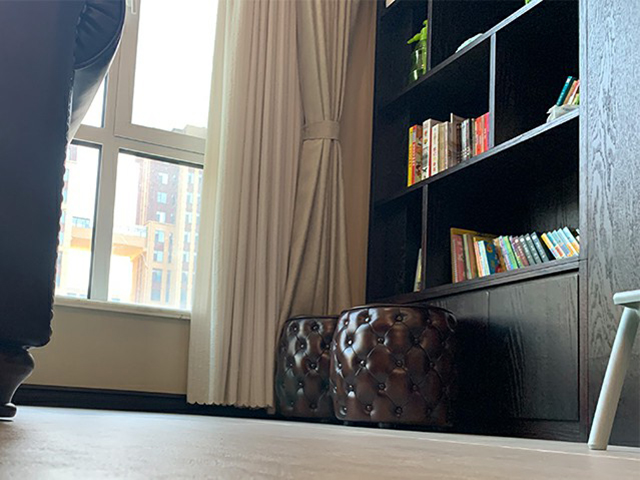cabinet: (369, 1, 640, 447)
curtain: (187, 1, 273, 411), (277, 1, 346, 307)
sofa: (1, 1, 127, 421)
stool: (328, 302, 459, 434), (273, 314, 340, 424)
